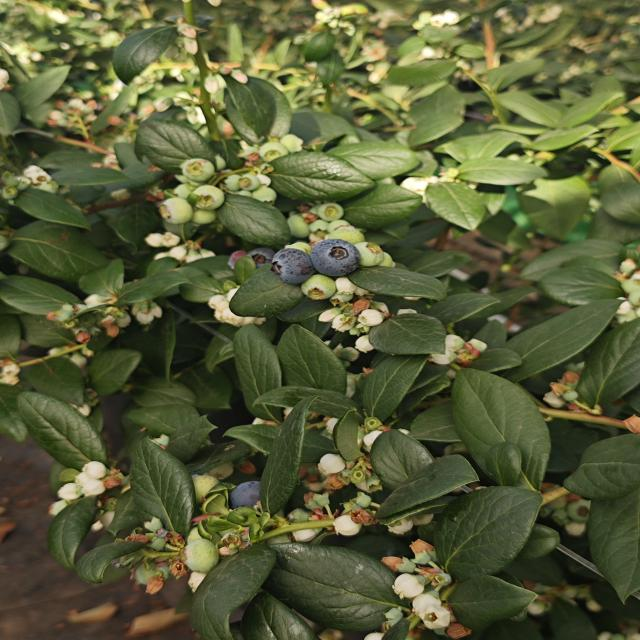ripe: (307, 234, 367, 282), (266, 244, 321, 285), (228, 471, 276, 513)
